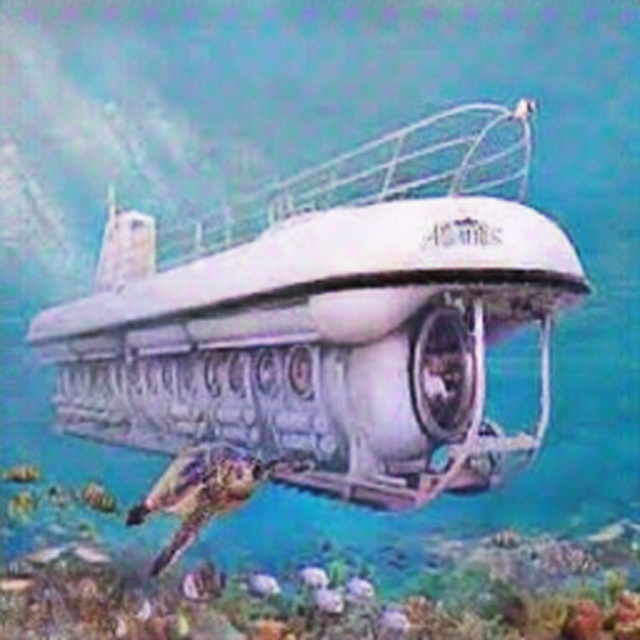submarine: (62, 98, 565, 521)
